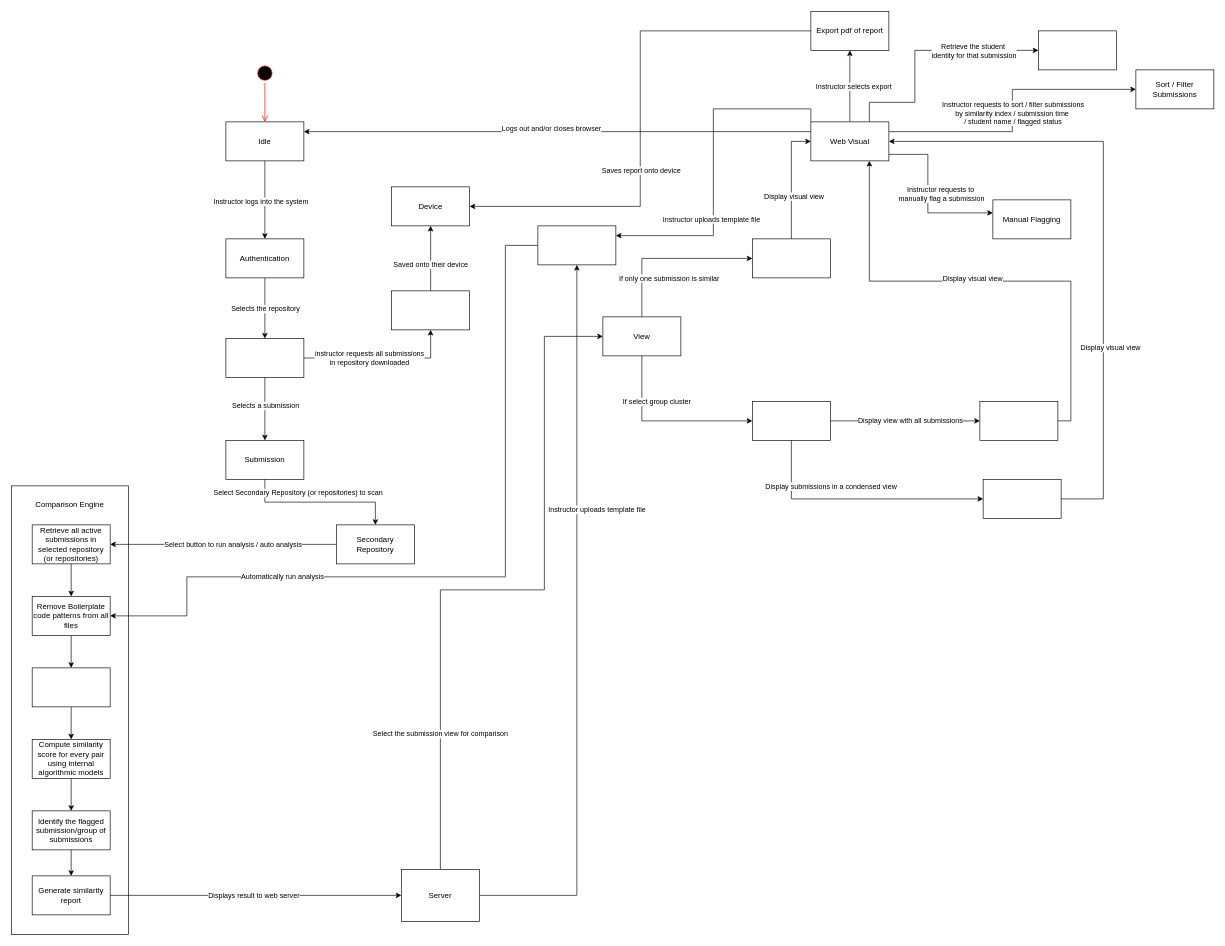
Some shapes in this 1225 by 946 pixel diagram are drawn without their labels. The shapes that lost their labels are listed below. From the top down, each one's box as (x1, y1, x2, y2) in pixels, then its label:
(1038, 30, 1116, 70): Reveal Student Identity
(537, 225, 616, 265): Upload Boilerplate File
(752, 238, 830, 278): Individual view
(391, 290, 470, 330): Convert to .zip file
(225, 338, 304, 378): Repository
(752, 401, 830, 440): Group Cluster
(979, 401, 1058, 440): Show cluster view
(982, 479, 1061, 518): Condensed view
(32, 667, 110, 707): Check for similar code structure / patterns
